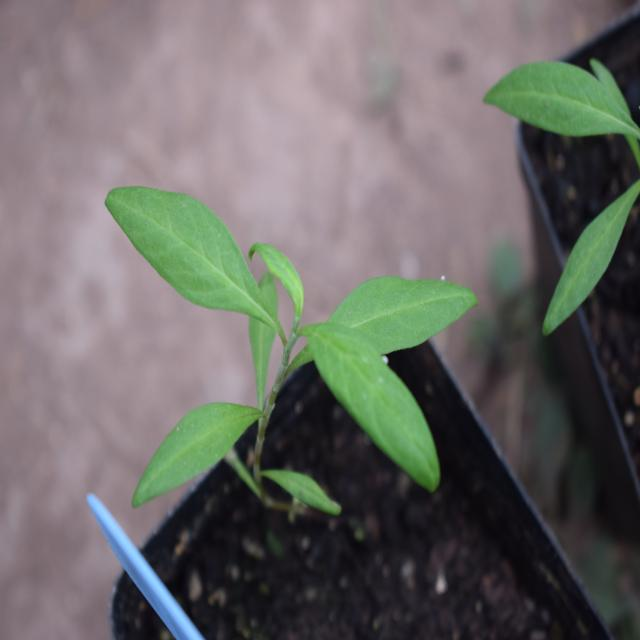white_smart_weed: (94, 150, 493, 549)
